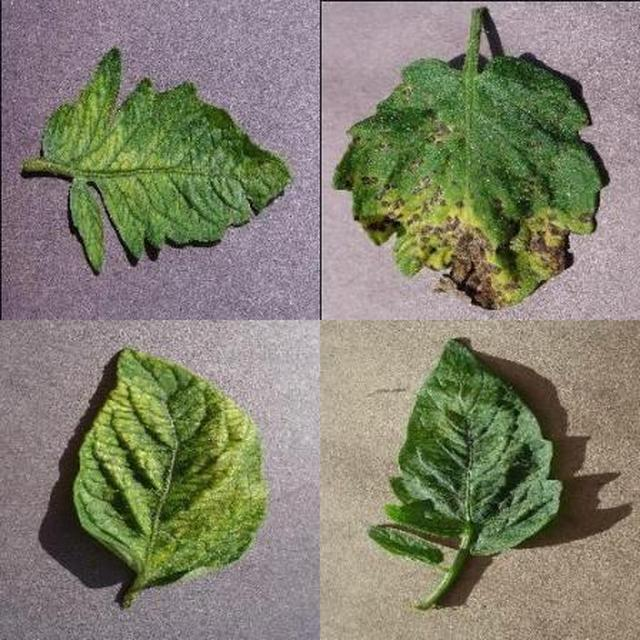Mosaic Virus Leaf: (235, 231, 640, 640)
